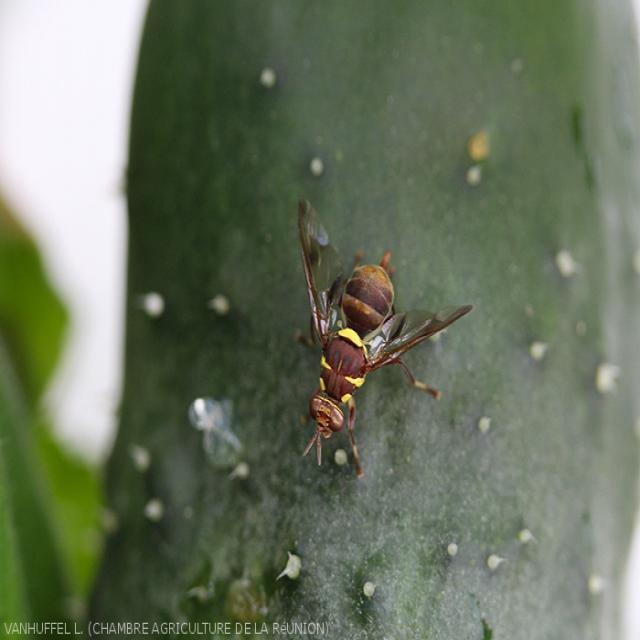Fruit fly: (293, 178, 486, 491)
